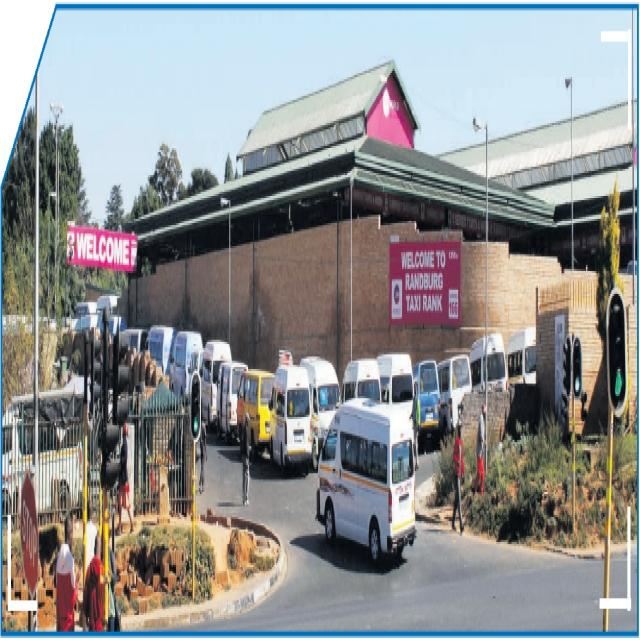MiniBus taxi: (314, 398, 428, 565), (268, 361, 312, 473)
Pedestrians: (450, 417, 469, 536), (472, 404, 490, 490), (241, 408, 252, 506)
